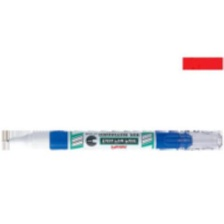correction_fluid: (0, 129, 223, 152)
